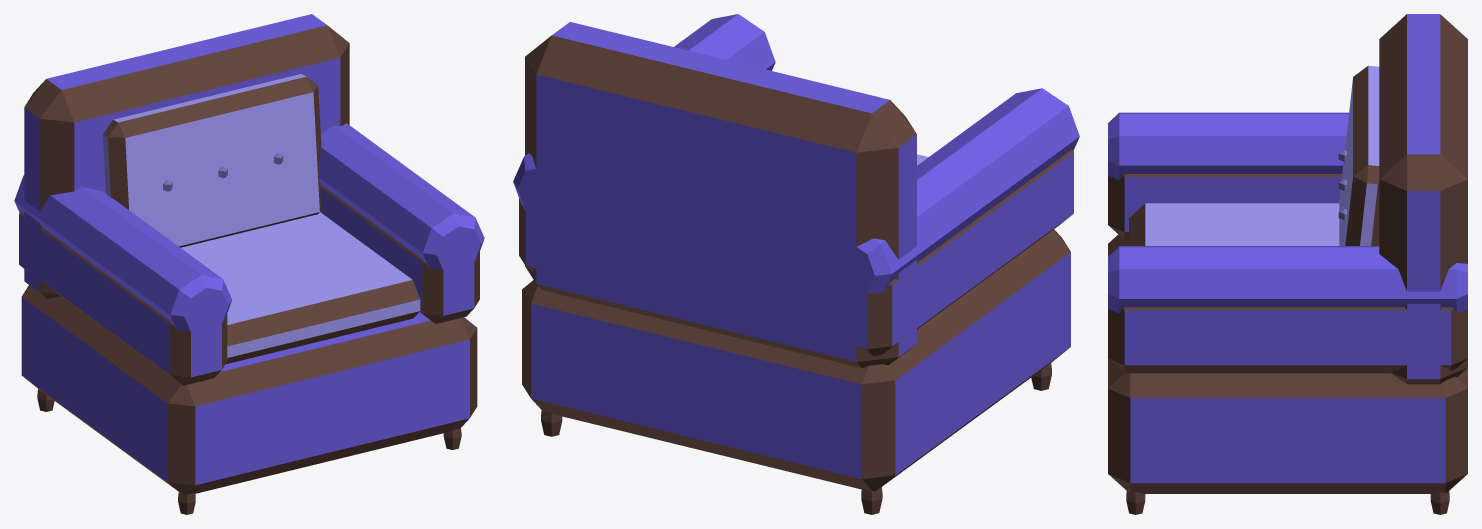
File: armchair.glb
The picture shows the model from 3 angles, left to right: view 1: azimuth 30°, elevation 25°; view 2: azimuth 150°, elevation 25°; view 3: azimuth 270°, elevation 25°; orthographic projection. The views are drawn at different scales.
Parts seen in each view (by area): view 1: armchair-m; view 2: armchair-m; view 3: armchair-m.
Boxes of the visible parts, <box> form: armchair-m: <box>14,14,484,514</box>; armchair-m: <box>513,14,1079,514</box>; armchair-m: <box>1108,14,1467,514</box>.
Size of the model in its own units: 1.42 by 1.42 by 1.3.
